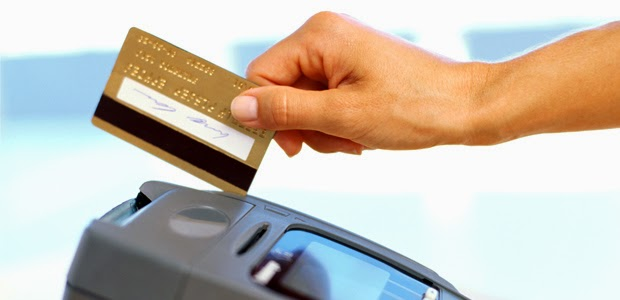tarjeta: (90, 25, 278, 196)
